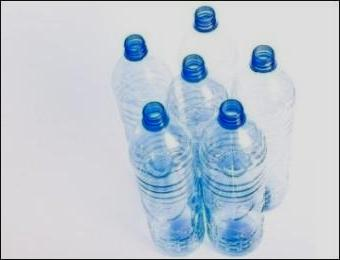bottle: (130, 101, 205, 257), (202, 99, 270, 255), (240, 45, 301, 211), (105, 34, 170, 148), (172, 50, 230, 108)
